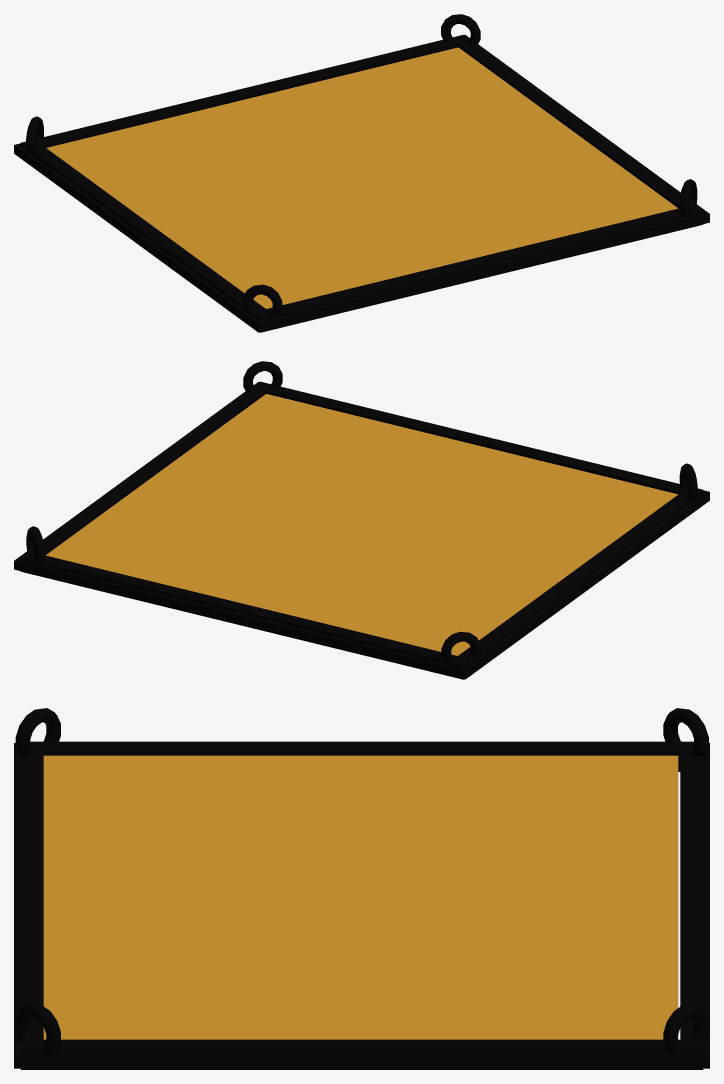
Rendered from Plataform1.fbx.
3 renders of one model, top to bottom at view 1: azimuth 30°, elevation 25°; view 2: azimuth 150°, elevation 25°; view 3: azimuth 270°, elevation 25°, orthographic. The views are drawn at different scales.
Parts seen in each view (by area): view 1: Metal; view 2: Metal; view 3: Metal.
Boxes of the visible parts, box(x1,y1,x2,y2) form: Metal: box(14, 14, 709, 332); Metal: box(14, 361, 709, 679); Metal: box(14, 708, 709, 1069).
Size of the model in its own units: 129 by 11.26 by 120.
